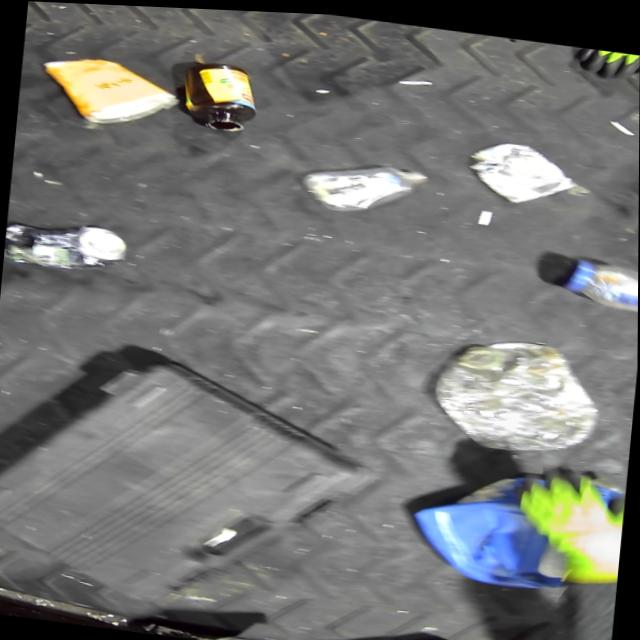can: (35, 48, 182, 132), (2, 212, 135, 280), (464, 131, 581, 206)
non_white_jug: (406, 450, 627, 595)
plastic_bottle: (427, 322, 606, 457), (292, 149, 438, 221), (554, 248, 639, 313)
